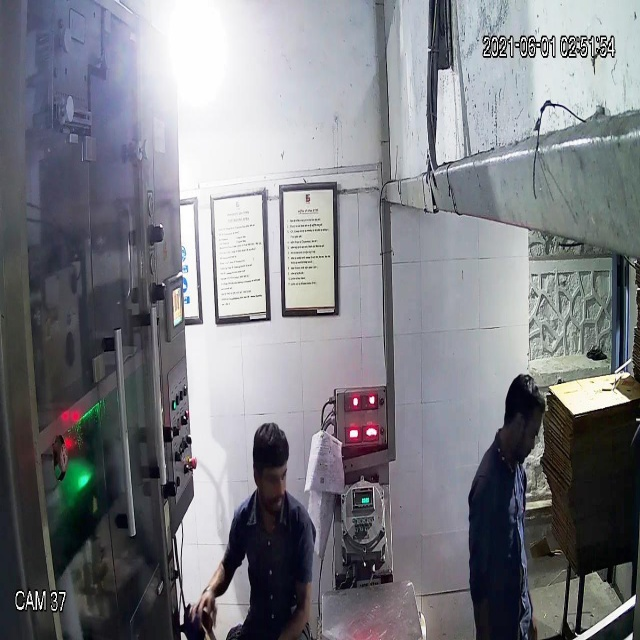Sin_gafas: (246, 456, 291, 494)
